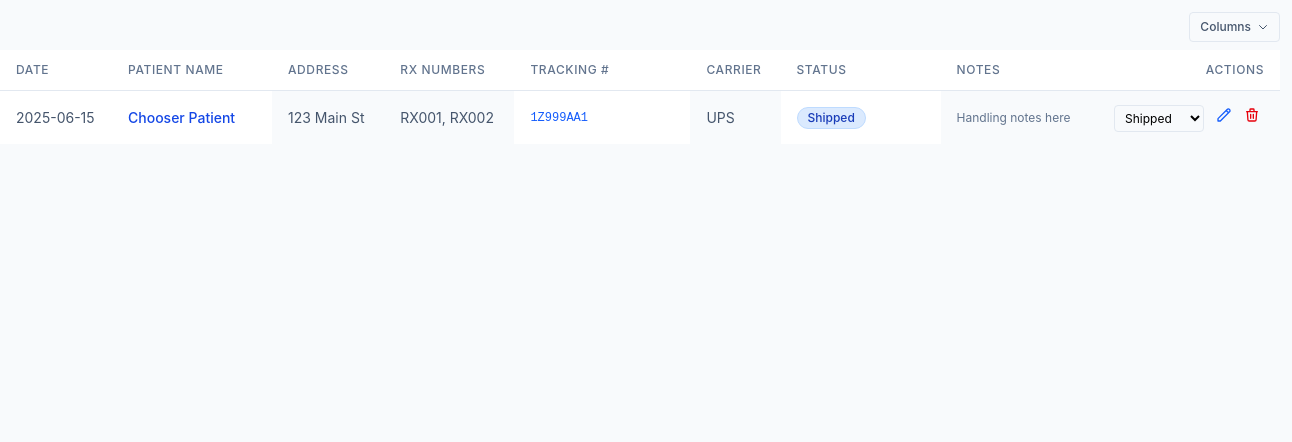
column visibility chooser › shows a Columns button that opens the column menu
Click the button "Columns": (1235, 27) [1189,12,1280,42]
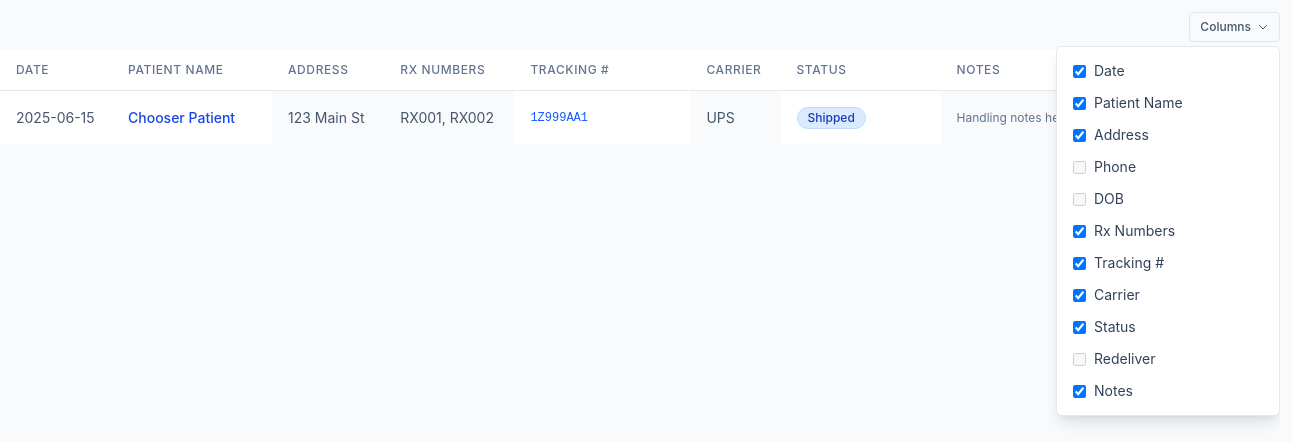
Expected: the checkbox labelled "Rx Numbers" is shown, [1073,224,1086,238]
